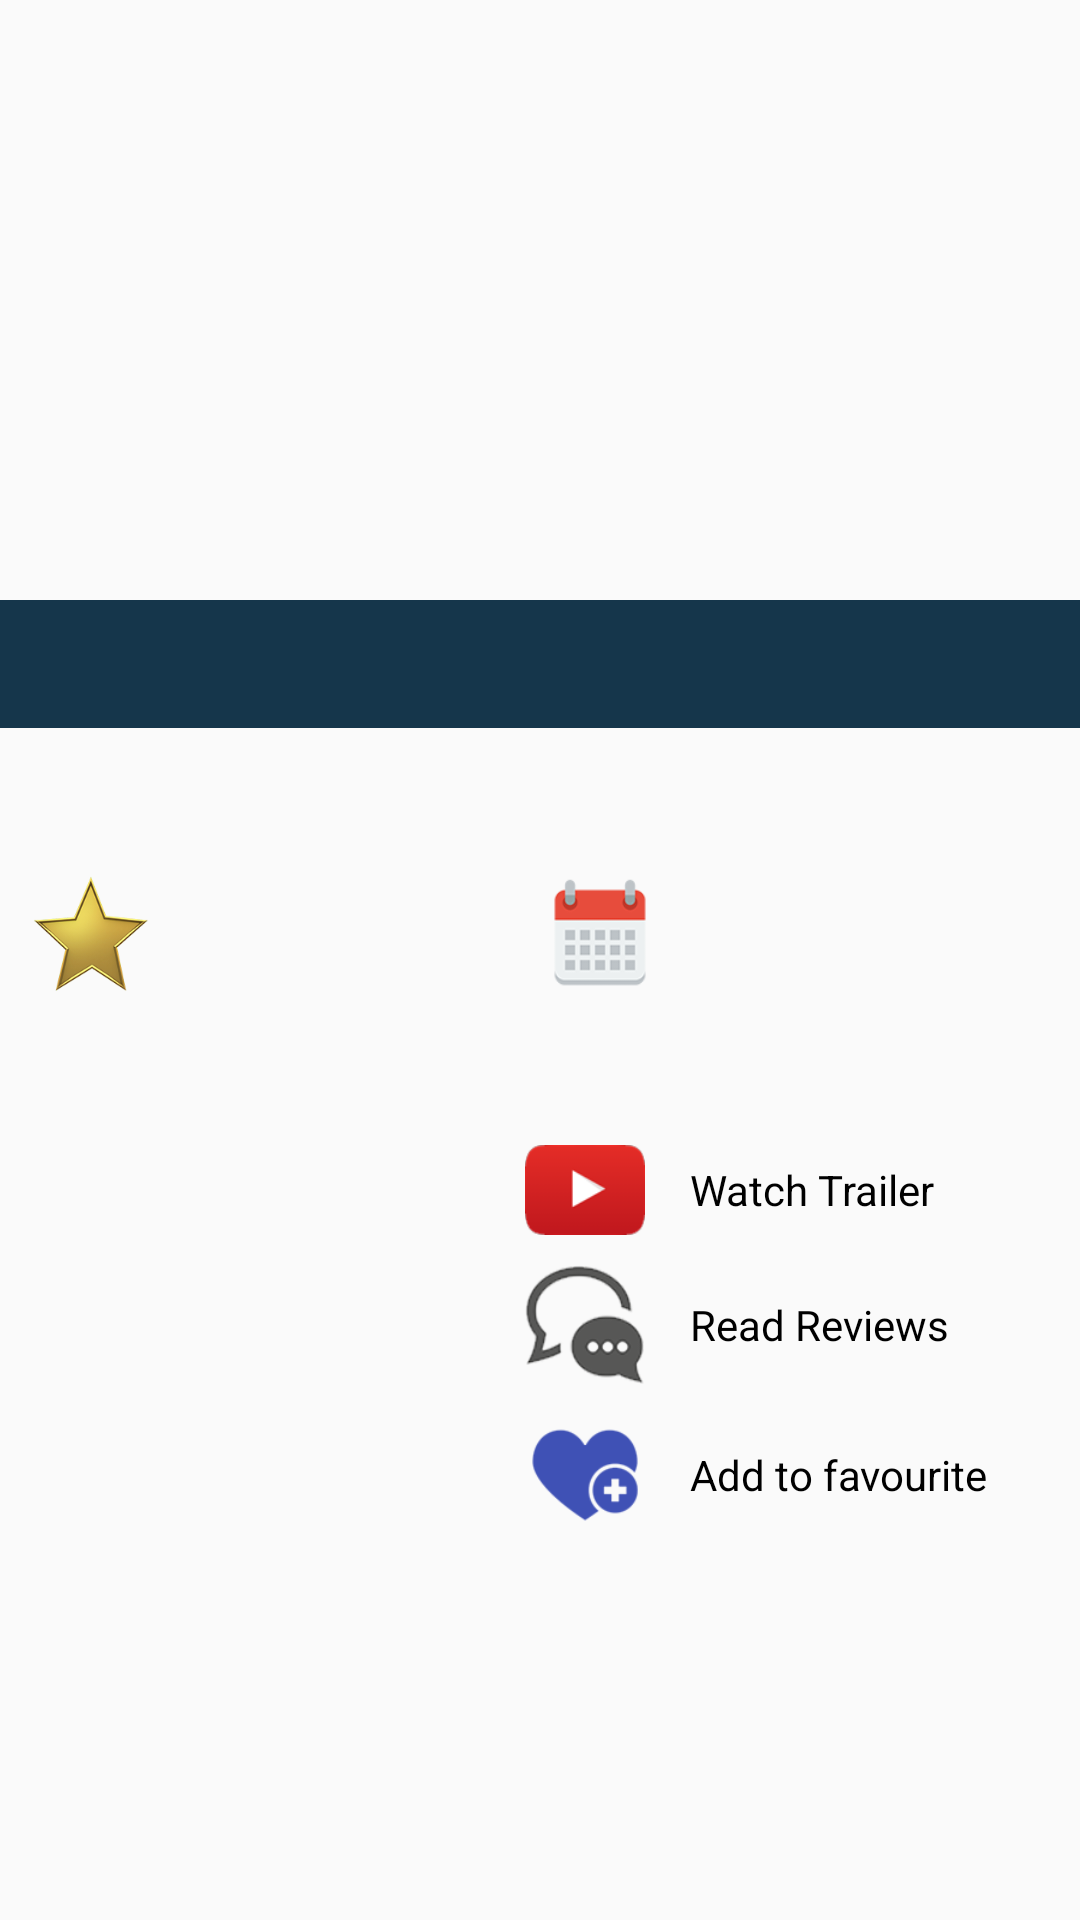

Named icons in this screenshot (1080 × 1920) and their bounding boxes, bbox=(x1, y1, x2, y2):
calender: bbox=(554, 880, 646, 985)
star: bbox=(34, 877, 148, 991)
